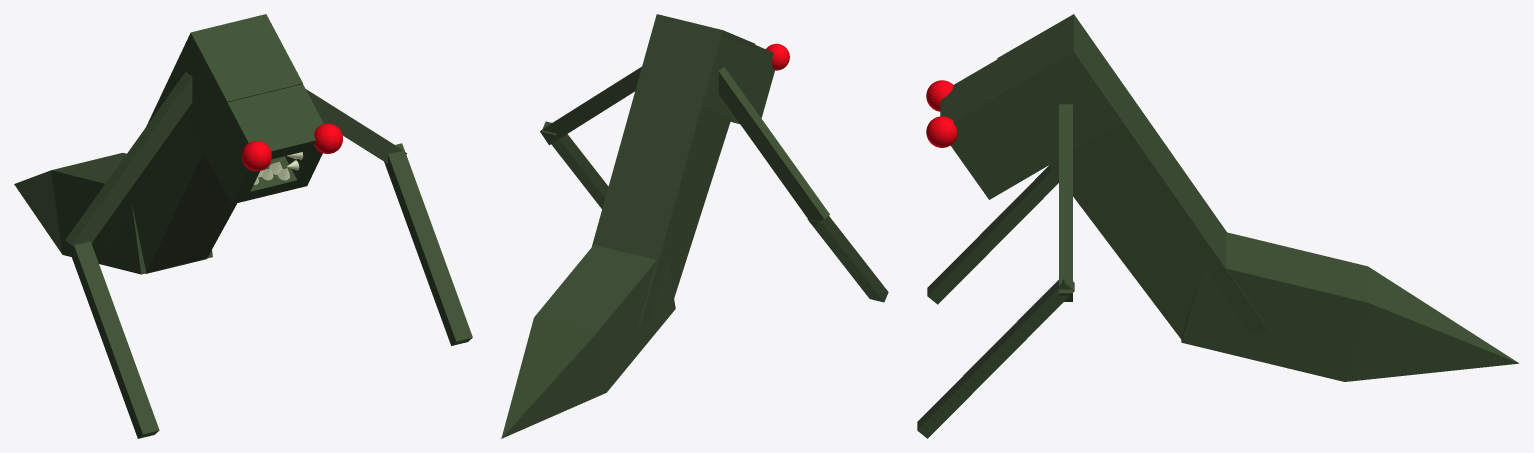
The model's file is Monster.glb.
3 views of the same model, side by side, from view 1: azimuth 30°, elevation 25°; view 2: azimuth 150°, elevation 25°; view 3: azimuth 270°, elevation 25° (orthographic). The views are drawn at different scales.
Parts seen in each view (by area): view 1: Cube, Cube.002, Cube.006, Cube.003, Cube.005, Cube.001, Cube.004, Sphere, Sphere.001; view 2: Cube, Cube.006, Cube.001, Cube.002, Cube.003, Cube.004, Cube.005, Sphere; view 3: Cube.006, Cube, Cube.002, Cube.005, Cube.003, Cube.004, Sphere.001.
Boxes of the visible parts, x1,y1,x2,y2 form: Cube: (98, 14, 302, 273); Cube.002: (168, 38, 323, 204); Cube.006: (14, 153, 212, 274); Cube.003: (67, 240, 159, 438); Cube.005: (384, 143, 472, 345); Cube.001: (65, 72, 192, 246); Cube.004: (306, 89, 406, 163); Sphere: (241, 141, 271, 171); Sphere.001: (314, 123, 342, 153); Cube: (592, 14, 755, 327); Cube.006: (501, 245, 675, 438); Cube.001: (718, 67, 829, 226); Cube.002: (703, 36, 774, 123); Cube.003: (807, 216, 888, 302); Cube.004: (540, 66, 641, 145); Cube.005: (541, 121, 608, 209); Sphere: (766, 43, 789, 70); Cube.006: (1181, 232, 1519, 381); Cube: (997, 14, 1270, 338); Cube.002: (940, 54, 1121, 199); Cube.005: (917, 279, 1074, 438); Cube.003: (927, 165, 1058, 304); Cube.004: (1059, 104, 1072, 301); Sphere.001: (926, 116, 957, 147).
Bounding box in the file's own units: 8.73 × 8.33 × 13.29.
